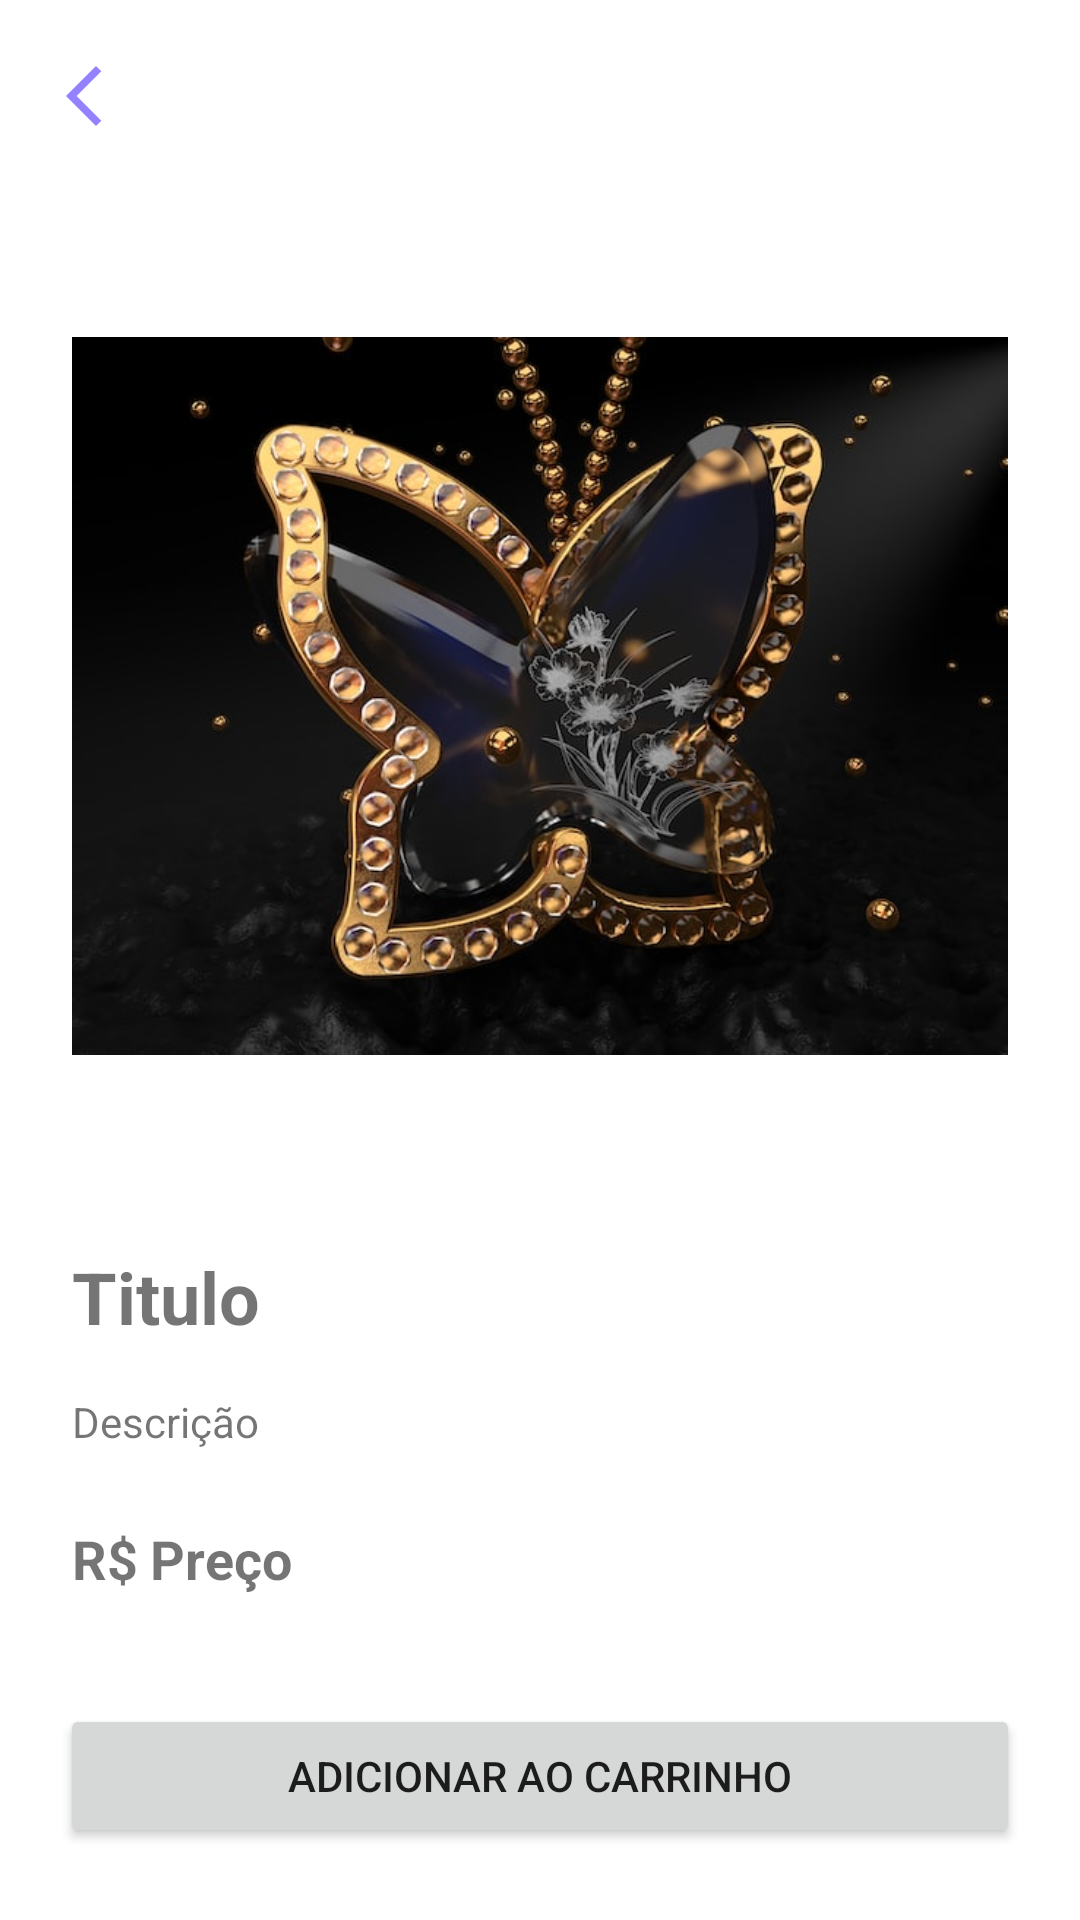

Point at icon controls on the screen. Image size 1080 x 1920, points as point (x, y).
arrow left: point (83, 96)
